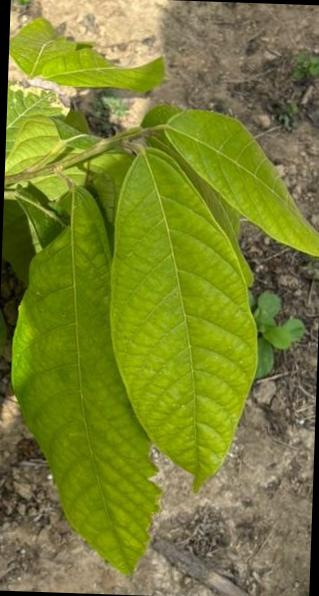Nitrogeno: (12, 188, 157, 573), (110, 148, 255, 488), (166, 111, 319, 254)
